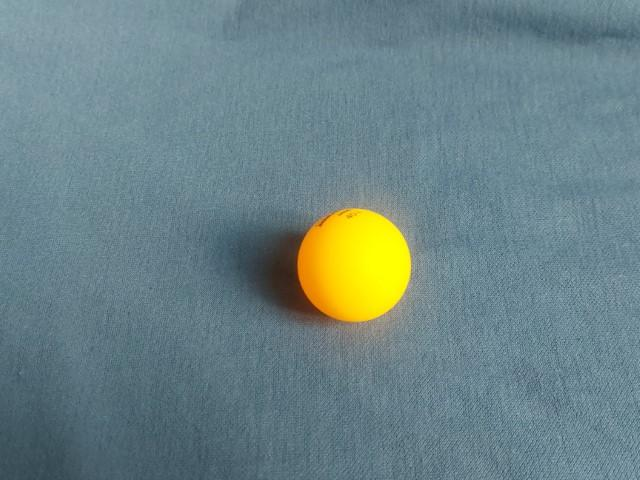oball: (223, 153, 350, 282)
